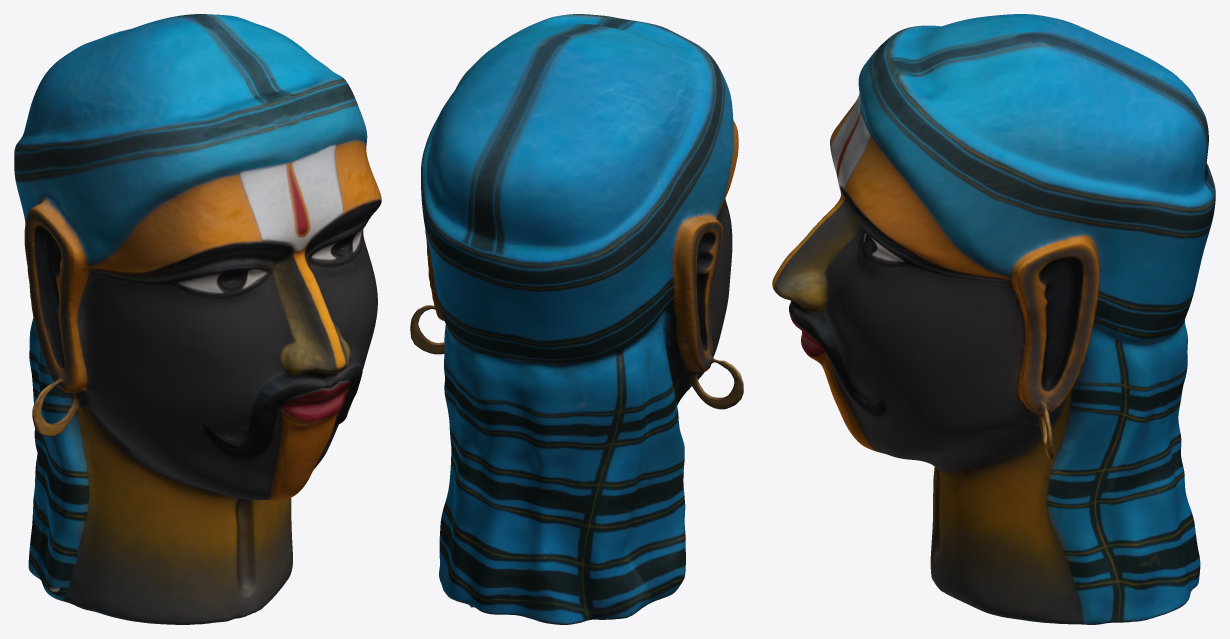
Rendered from thota-male-head-with-blue-turban.glb.
3 renders of one model, left to right at view 1: azimuth 30°, elevation 25°; view 2: azimuth 150°, elevation 25°; view 3: azimuth 270°, elevation 25°, orthographic. The views are drawn at different scales.
Visible parts, largest first — view 1: Drone - 07; view 2: Drone - 07; view 3: Drone - 07.
Boxes of the visible parts, box(x1,y1,x2,y2) form: Drone - 07: box(14, 14, 381, 624); Drone - 07: box(410, 14, 743, 624); Drone - 07: box(772, 14, 1215, 624).
Bounding box in the file's own units: 4.83 × 7.64 × 5.58.
Materials: 1 (1 with a texture image).
